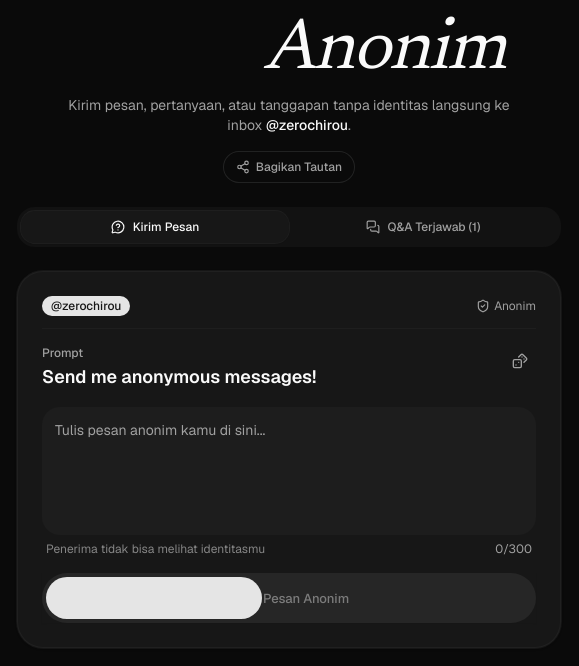
Test: Send Feature UI Components › SendView › optimistically increments like and updates when likeQuestionAction succeeds
Click the button "Q&A Terjawab (1)".
click(423, 227)  # box [289,211,557,243]
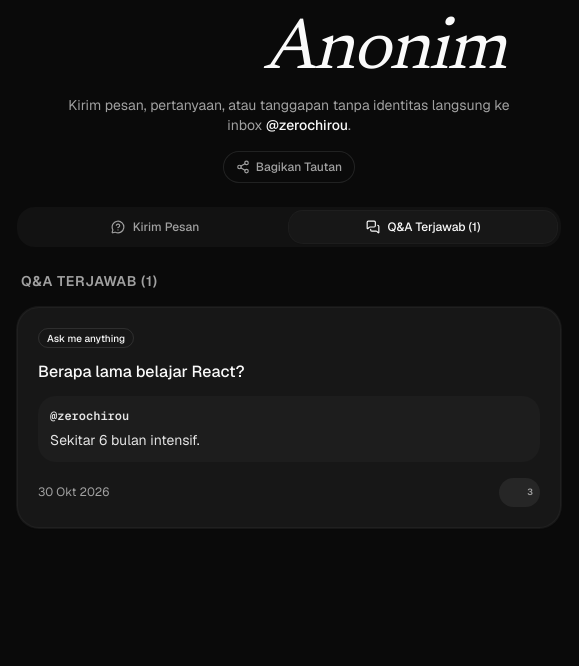
Check: the text "3" is shown, box [527,488,533,497]
Click the button named "suka".
click(520, 492)  # box [499,478,540,507]
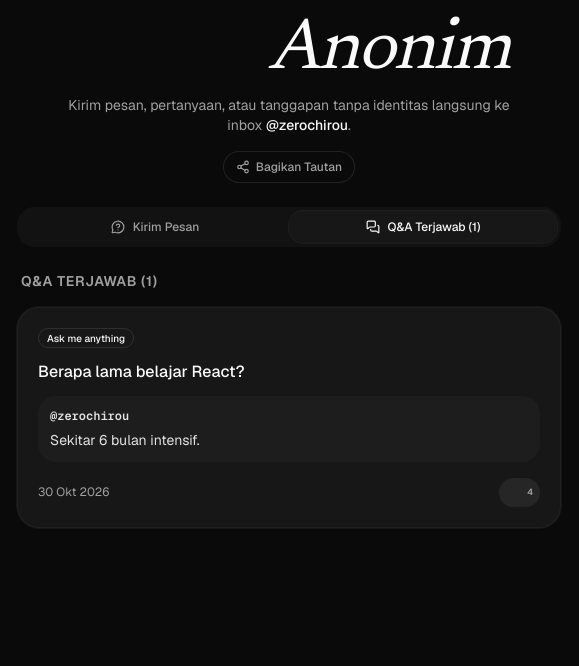
Check: the text "4" is shown, box [527,488,533,497]
